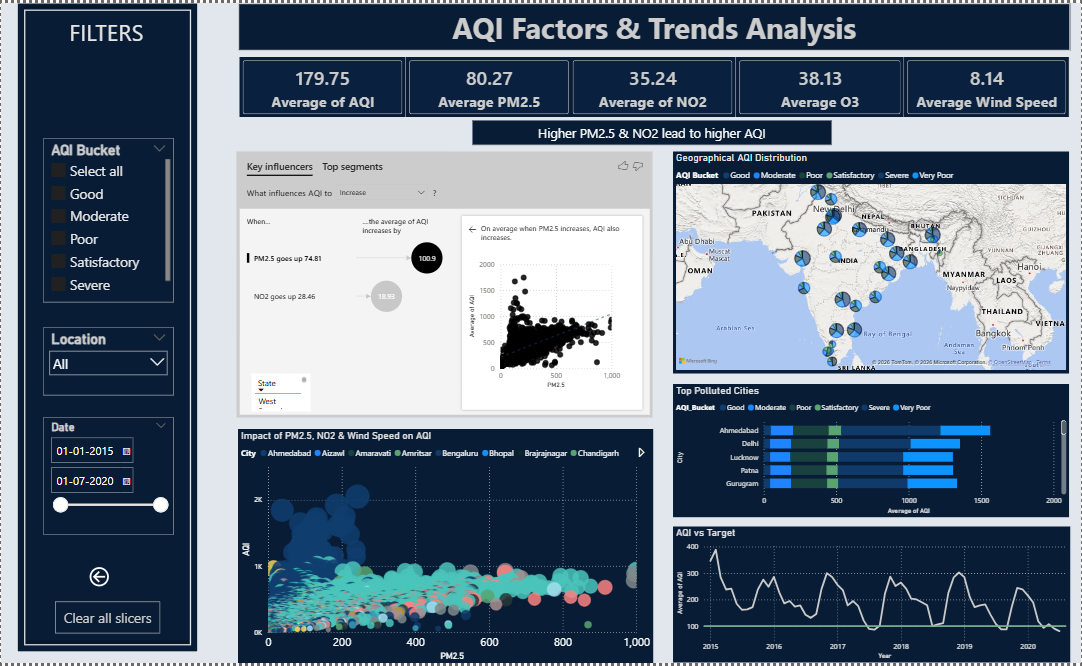

The dashboard page shown, as its layout file describes it:
{"tool":"powerbi","page":{"name":"Page 3","canvas":[1800,1100],"ordinal":2},"visuals":[{"type":"shape","box":[26.6,0,300.3,1081.6],"z":0},{"type":"lineChart","title":"AQI vs Target","fields":{"Y":["Avg(station_day.AQI)"],"Category":["DateTable.Date.Variation.Date Hierarchy.Year","DateTable.Date.Variation.Date Hierarchy.Month"]},"box":[1120,873.3,661.7,226.7],"z":1000},{"type":"slicer","fields":{"Values":["stations.State","stations.City"]},"box":[69.1,539.5,217.9,114.3],"z":2000},{"type":"slicer","fields":{"Values":["station_day.AQI_Bucket"]},"box":[69.1,225.9,217.9,273.7],"z":3000},{"type":"actionButton","box":[90.4,996.6,175.4,53.2],"z":4000},{"type":"cardVisual","fields":{"Data":["DateTable.Avg PM2.5"]},"box":[674.4,89.7,276.9,100],"z":5000},{"type":"cardVisual","fields":{"Data":["Avg(Weather.wind_speed)"]},"box":[1505.1,89.7,274.4,100],"z":6000},{"type":"cardVisual","fields":{"Data":["Avg(station_day.NO2)"]},"box":[948.7,89.7,276.9,100],"z":7000},{"type":"barChart","title":"Top Polluted Cities","fields":{"Category":["stations.City"],"Y":["Avg(station_day.AQI)"],"Series":["station_day.AQI_Bucket"]},"box":[1120,635,660,221.7],"z":8000},{"type":"textbox","box":[395,0,1387.5,80],"z":9000},{"type":"textbox","box":[66.7,16.7,216.7,63.3],"z":10000},{"type":"cardVisual","fields":{"Data":["Avg(station_day.AQI)"]},"box":[397.4,89.7,276.9,100],"z":11000},{"type":"slicer","fields":{"Values":["DateTable.Date"]},"box":[69.1,691,217.9,196.7],"z":12000},{"type":"map","title":"Geographical AQI Distribution","fields":{"Category":["stations.City"],"Size":["Avg(station_day.AQI)"],"Series":["station_day.AQI_Bucket"]},"box":[1120,248.3,660,368.3],"z":13000},{"type":"keyDriversVisual","fields":{"Target":["station_day.AQI"],"ExplainBy":["Weather.wind_speed","station_day.NO2","station_day.PM2.5","Avg(Weather.humidity)"]},"box":[393.3,248.3,693.3,443.3],"z":14000},{"type":"actionButton","box":[143.5,935.4,98.3,42.5],"z":15000},{"type":"tableEx","fields":{"Values":["stations.State"]},"box":[417.1,617.1,97.1,62.9],"z":16000},{"type":"scatterChart","title":"Impact of PM2.5, NO2 & Wind Speed on AQI","fields":{"X":["station_day.PM2.5"],"Y":["station_day.AQI"],"Series":["stations.City"],"Size":["Avg(station_day.AQI)"]},"box":[395,710,691.7,390],"z":17000},{"type":"cardVisual","fields":{"Data":["Avg(station_day.O3)"]},"box":[1225.6,89.7,279.5,100],"z":18000},{"type":"textbox","box":[785.7,195,600,42],"z":19000}]}

Visuals, with their boxes in screenshot pixels (x1, y1, x2, y2), scaled from the page's 1800x1100 canvas onto the 1082x666 screenshot:
shape: [16, 0, 197, 655]
"AQI vs Target" lineChart: [673, 529, 1071, 665]
slicer - stations.State x stations.City: [42, 327, 173, 396]
slicer - station_day.AQI_Bucket: [42, 137, 173, 302]
actionButton: [54, 603, 160, 636]
cardVisual - DateTable.Avg PM2.5: [405, 54, 572, 115]
cardVisual - Avg(Weather.wind_speed): [905, 54, 1070, 115]
cardVisual - Avg(station_day.NO2): [570, 54, 737, 115]
"Top Polluted Cities" barChart: [673, 384, 1070, 519]
textbox: [237, 0, 1071, 48]
textbox: [40, 10, 170, 48]
cardVisual - Avg(station_day.AQI): [239, 54, 405, 115]
slicer - DateTable.Date: [42, 418, 173, 537]
"Geographical AQI Distribution" map: [673, 150, 1070, 373]
keyDriversVisual - station_day.AQI x Weather.wind_speed: [236, 150, 653, 419]
actionButton: [86, 566, 145, 592]
tableEx - stations.State: [251, 374, 309, 412]
"Impact of PM2.5, NO2 & Wind Speed on AQI" scatterChart: [237, 430, 653, 665]
cardVisual - Avg(station_day.O3): [737, 54, 905, 115]
textbox: [472, 118, 833, 143]
